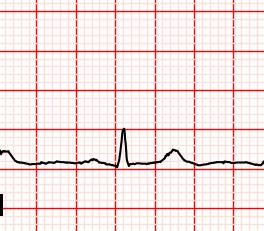LVH: (151, 145, 197, 168)
Poor R Progression: (110, 128, 132, 169)
